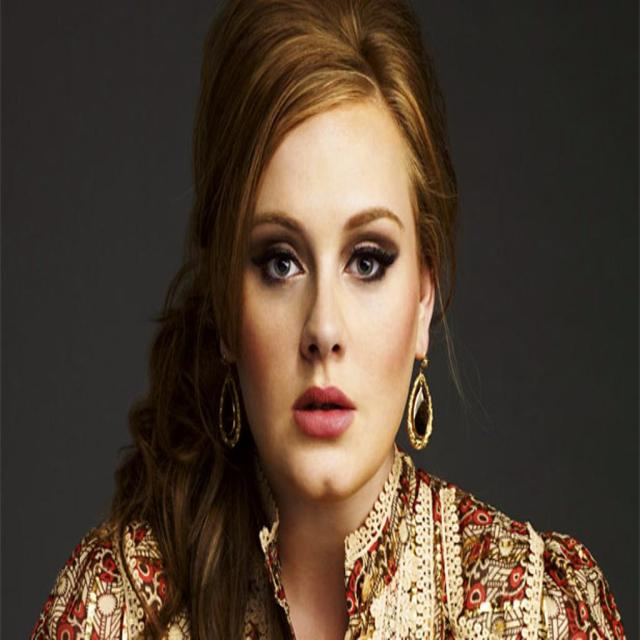Face: (220, 90, 428, 518)
